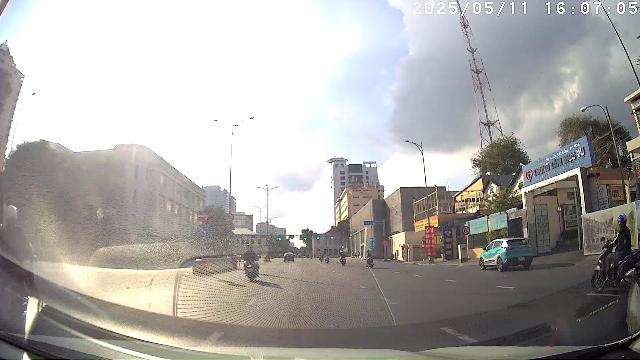124b-cam-oto-quay-dau-xe: (462, 226, 470, 235)
